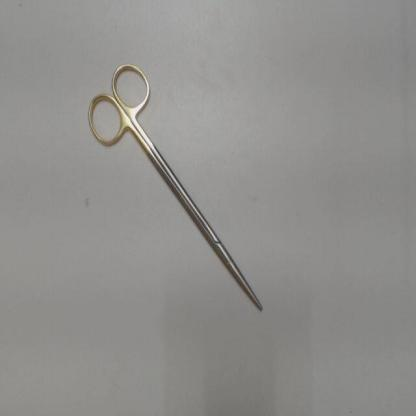7 Metzenbaum Scissors: (86, 57, 264, 315)
